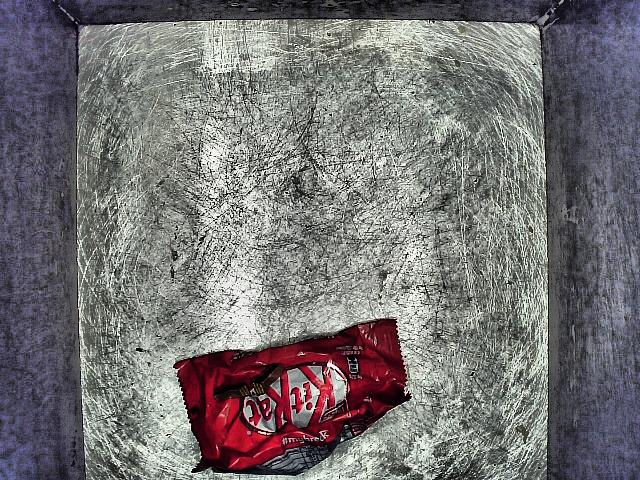Plastic: (165, 305, 432, 480)
